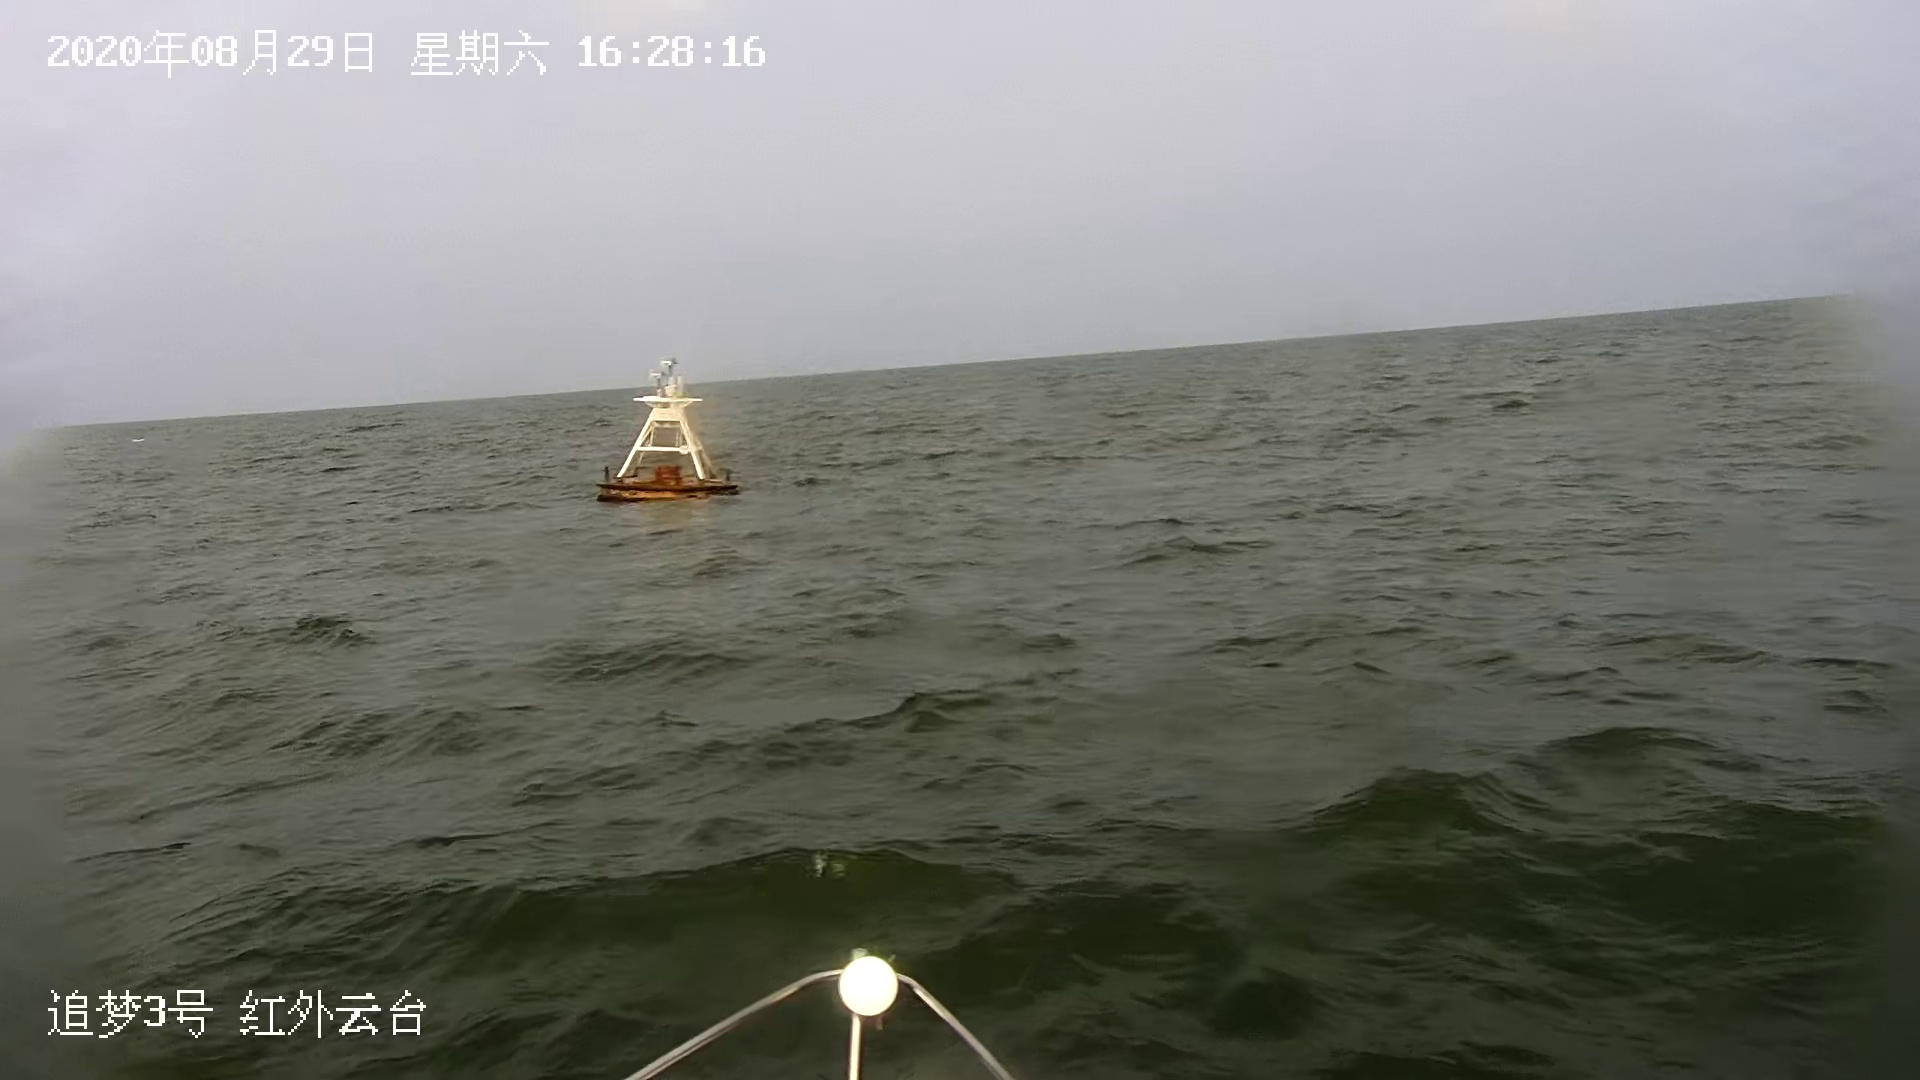barrier: (601, 360, 744, 502)
